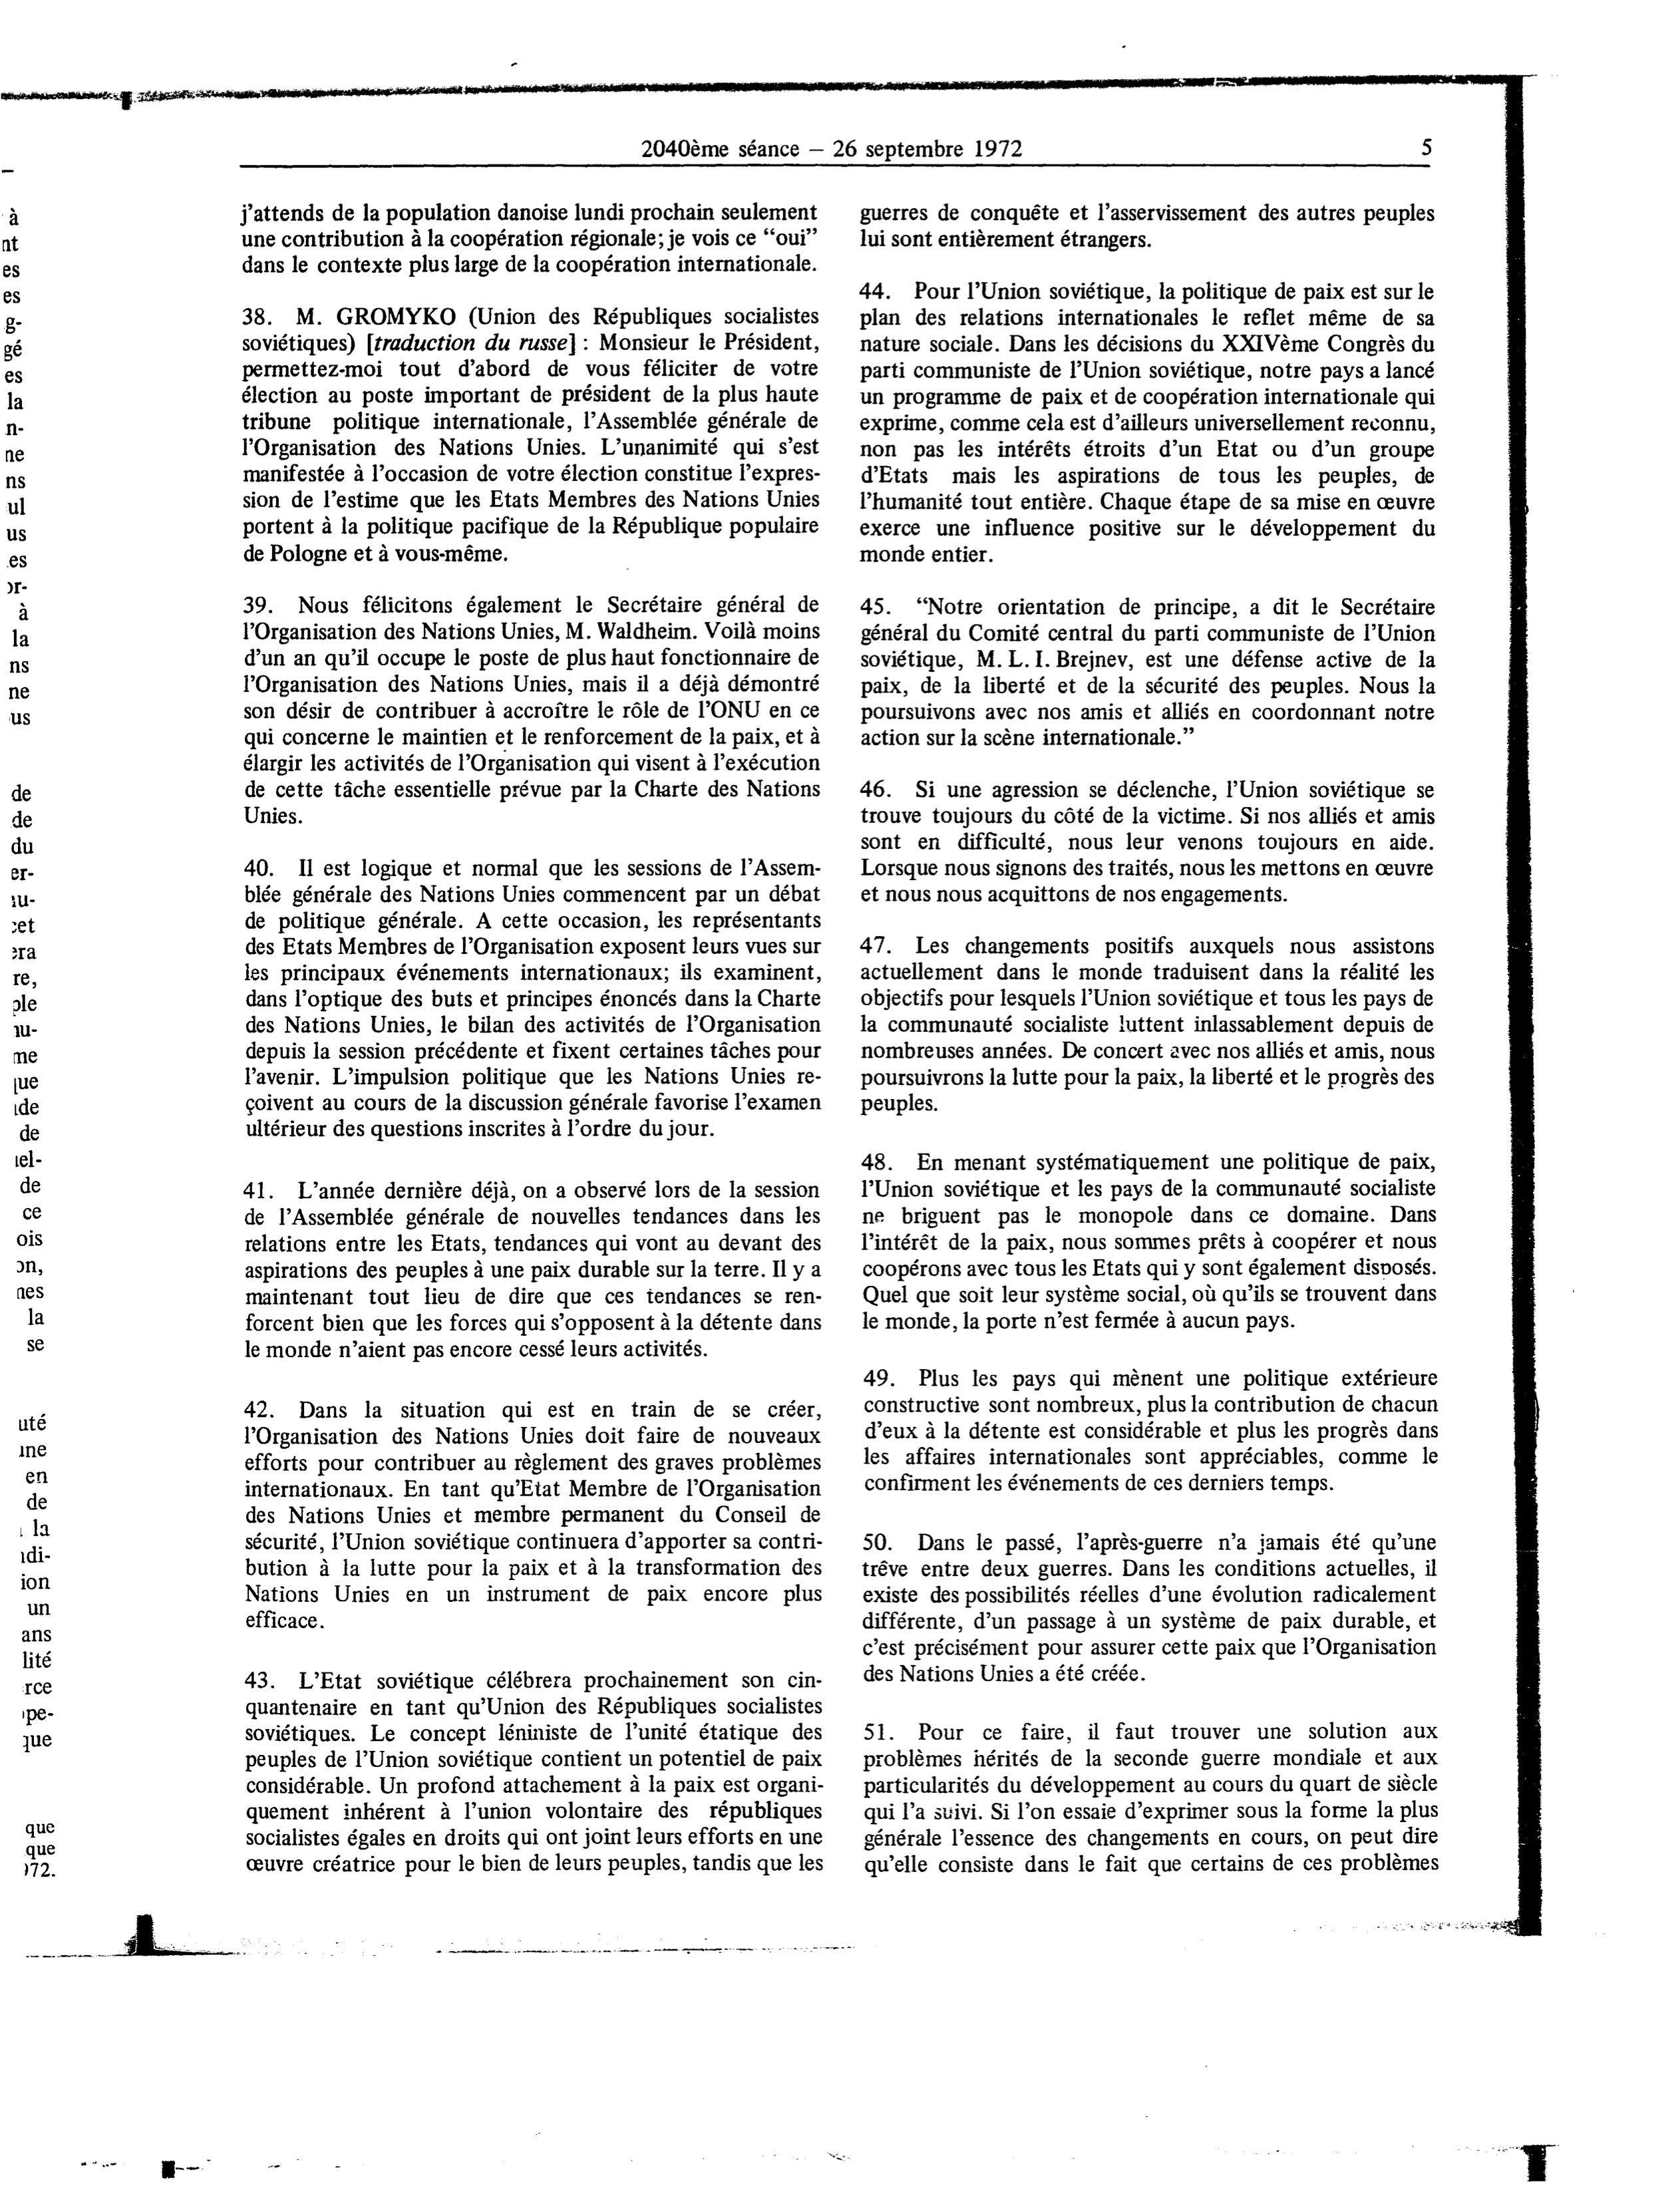MainZone-Continued: (233, 198, 828, 282), (852, 192, 1442, 258)
MainZone-ListItem: (851, 272, 1444, 573), (235, 849, 831, 1147), (233, 296, 829, 570), (235, 1389, 831, 1638), (233, 588, 829, 833), (236, 1662, 833, 1883), (236, 1170, 831, 1366), (854, 1143, 1445, 1338), (854, 928, 1445, 1121), (858, 1712, 1447, 1885), (856, 1523, 1445, 1690), (854, 588, 1445, 753), (854, 771, 1445, 912), (858, 1359, 1447, 1500)
NumberingZone: (1415, 132, 1440, 161)
RunningTitleZone: (635, 131, 1034, 169)
